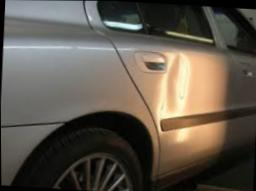Door: (145, 42, 234, 178)
